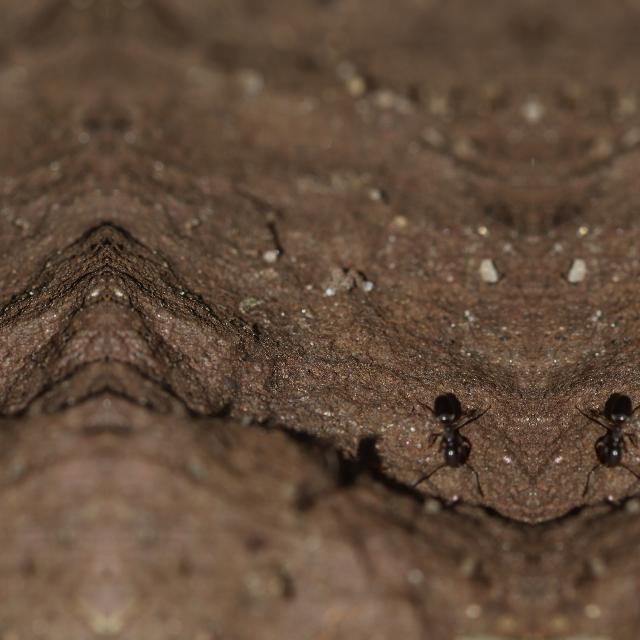Tapinoma: (416, 379, 482, 486), (582, 378, 640, 486)
